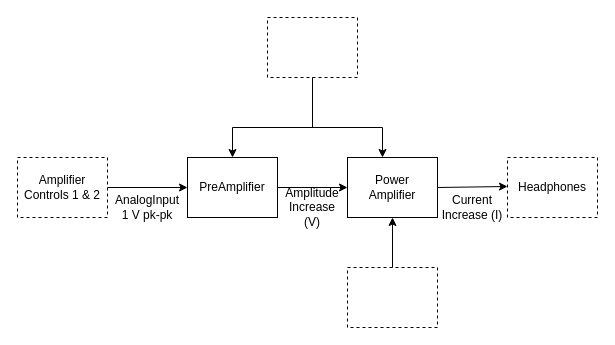
Image size: 615x345. Some labels were removed from this diagram. Each missing label, with the centre of its shape:
"DC Voltage +13 V" goes at pixel 312 47.
"DC Voltage -13 V" goes at pixel 392 297.
